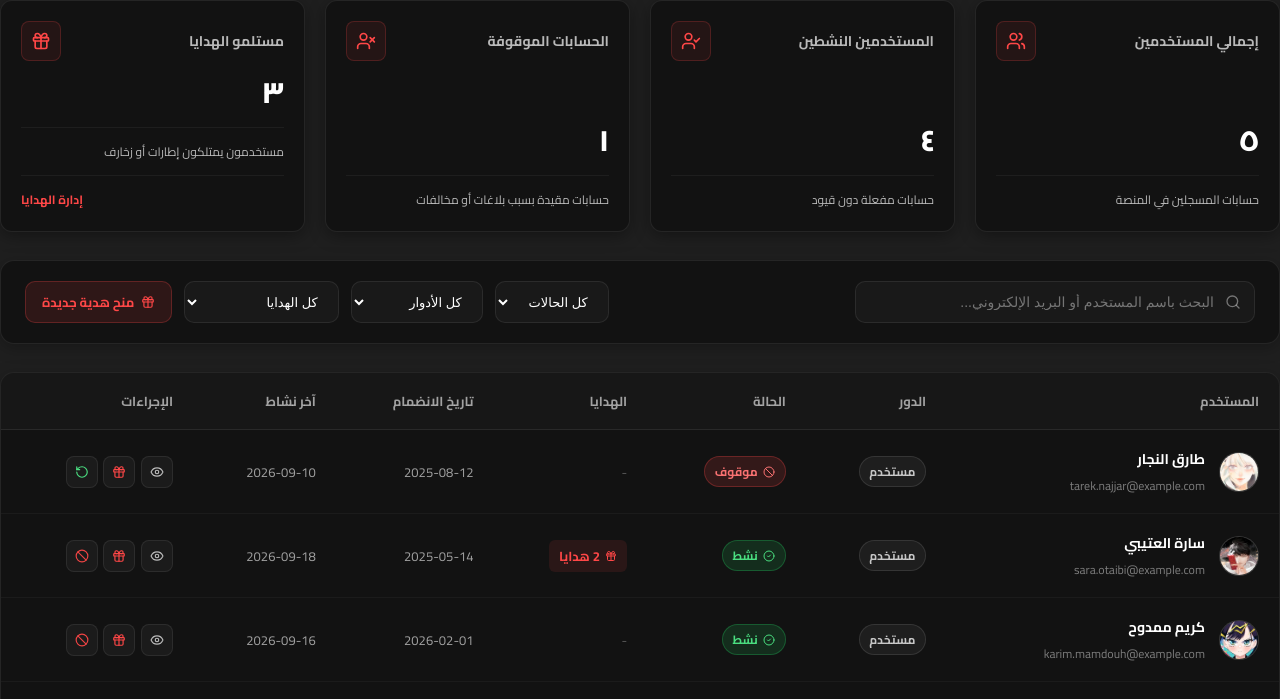
Test: AdminUsers Component › filters users by role
Select "مدير" in the dropdown named "تصفية حسب الدور": (417, 302) [351,281,483,323]
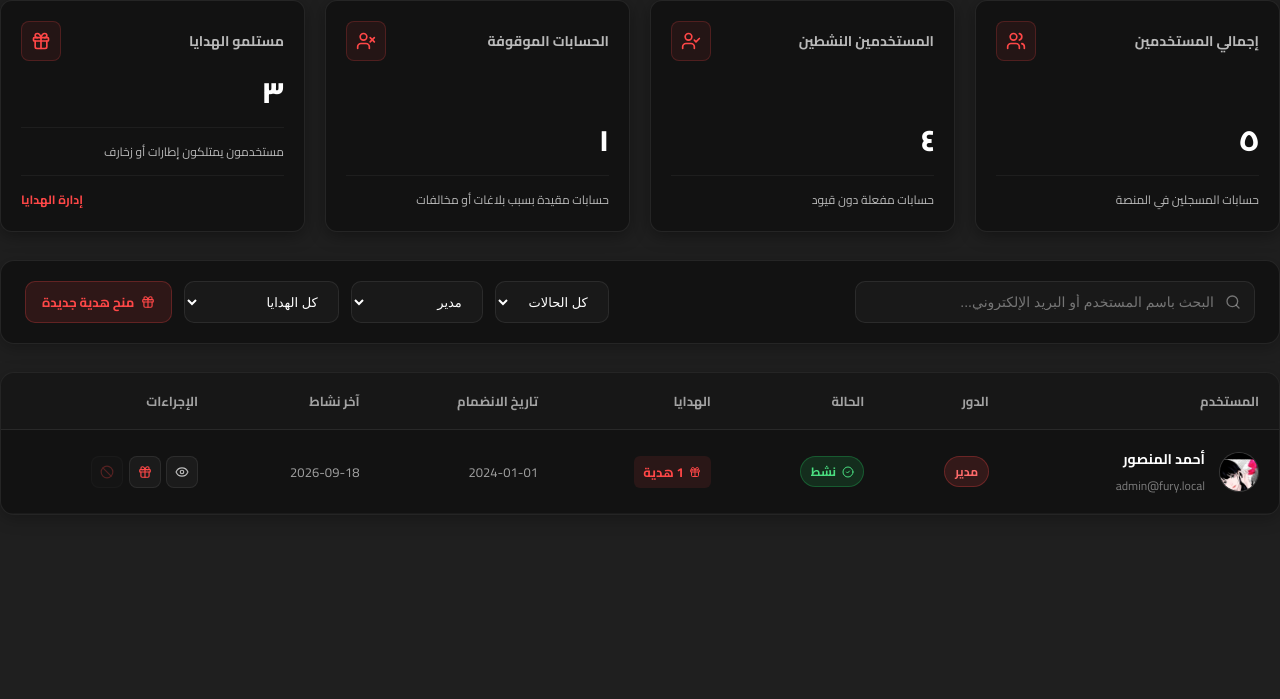
Expected: the link "أحمد المنصور" is shown, [1116,446,1205,472]
Expected: the link "سارة العتيبي" is gone
